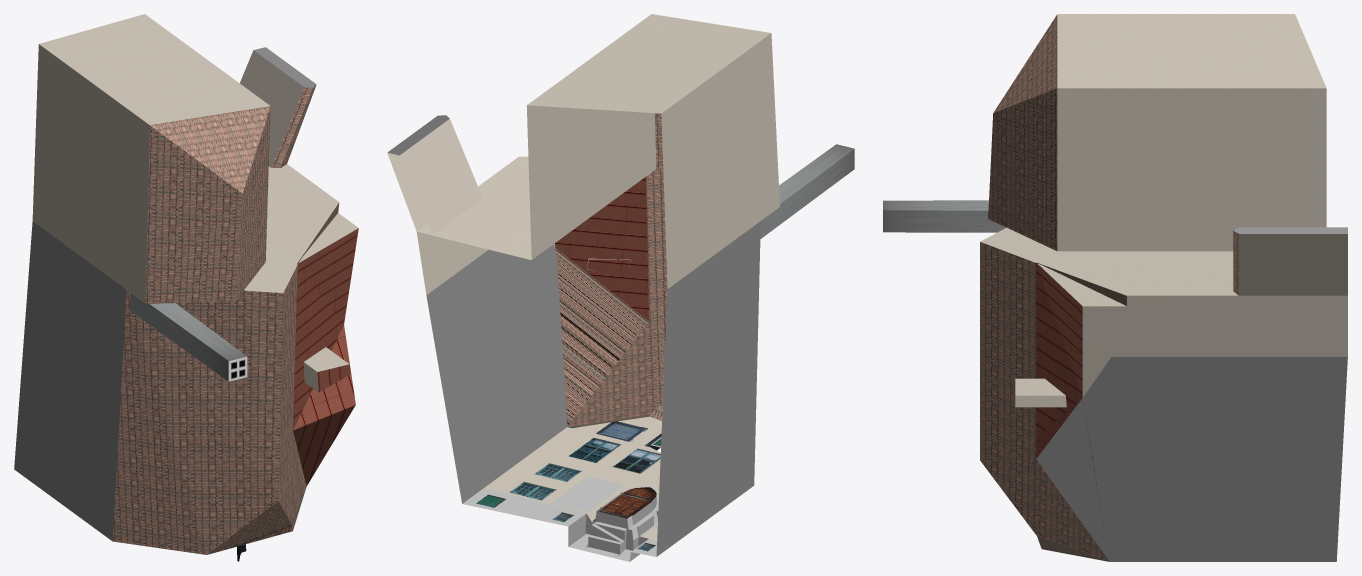
File: Kuninga-6-origo.obj
3 renders of one model, left to right at view 1: azimuth 30°, elevation 25°; view 2: azimuth 150°, elevation 25°; view 3: azimuth 270°, elevation 25°, orthographic. The views are drawn at different scales.
Visible parts, largest first — view 1: Kuninga_6; view 2: Kuninga_6; view 3: Kuninga_6.
Boxes of the visible parts, x1,y1,x2,y2 form: Kuninga_6: [14, 14, 358, 561]; Kuninga_6: [387, 14, 854, 561]; Kuninga_6: [883, 14, 1347, 561].
Size of the model in its own units: 13.25 by 22 by 19.05.
